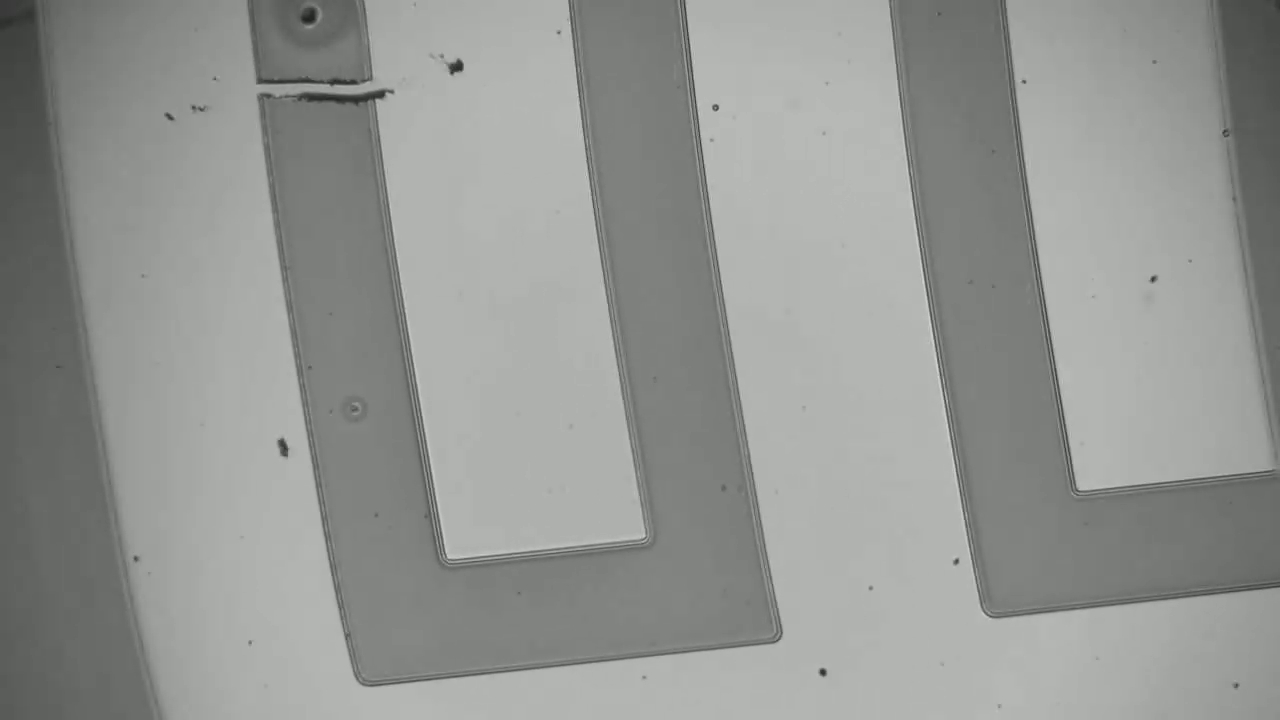Short_circuit: (238, 62, 408, 120)
